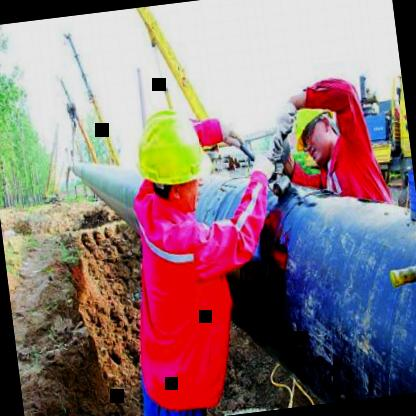helmet: (125, 95, 220, 222), (283, 102, 347, 173)
